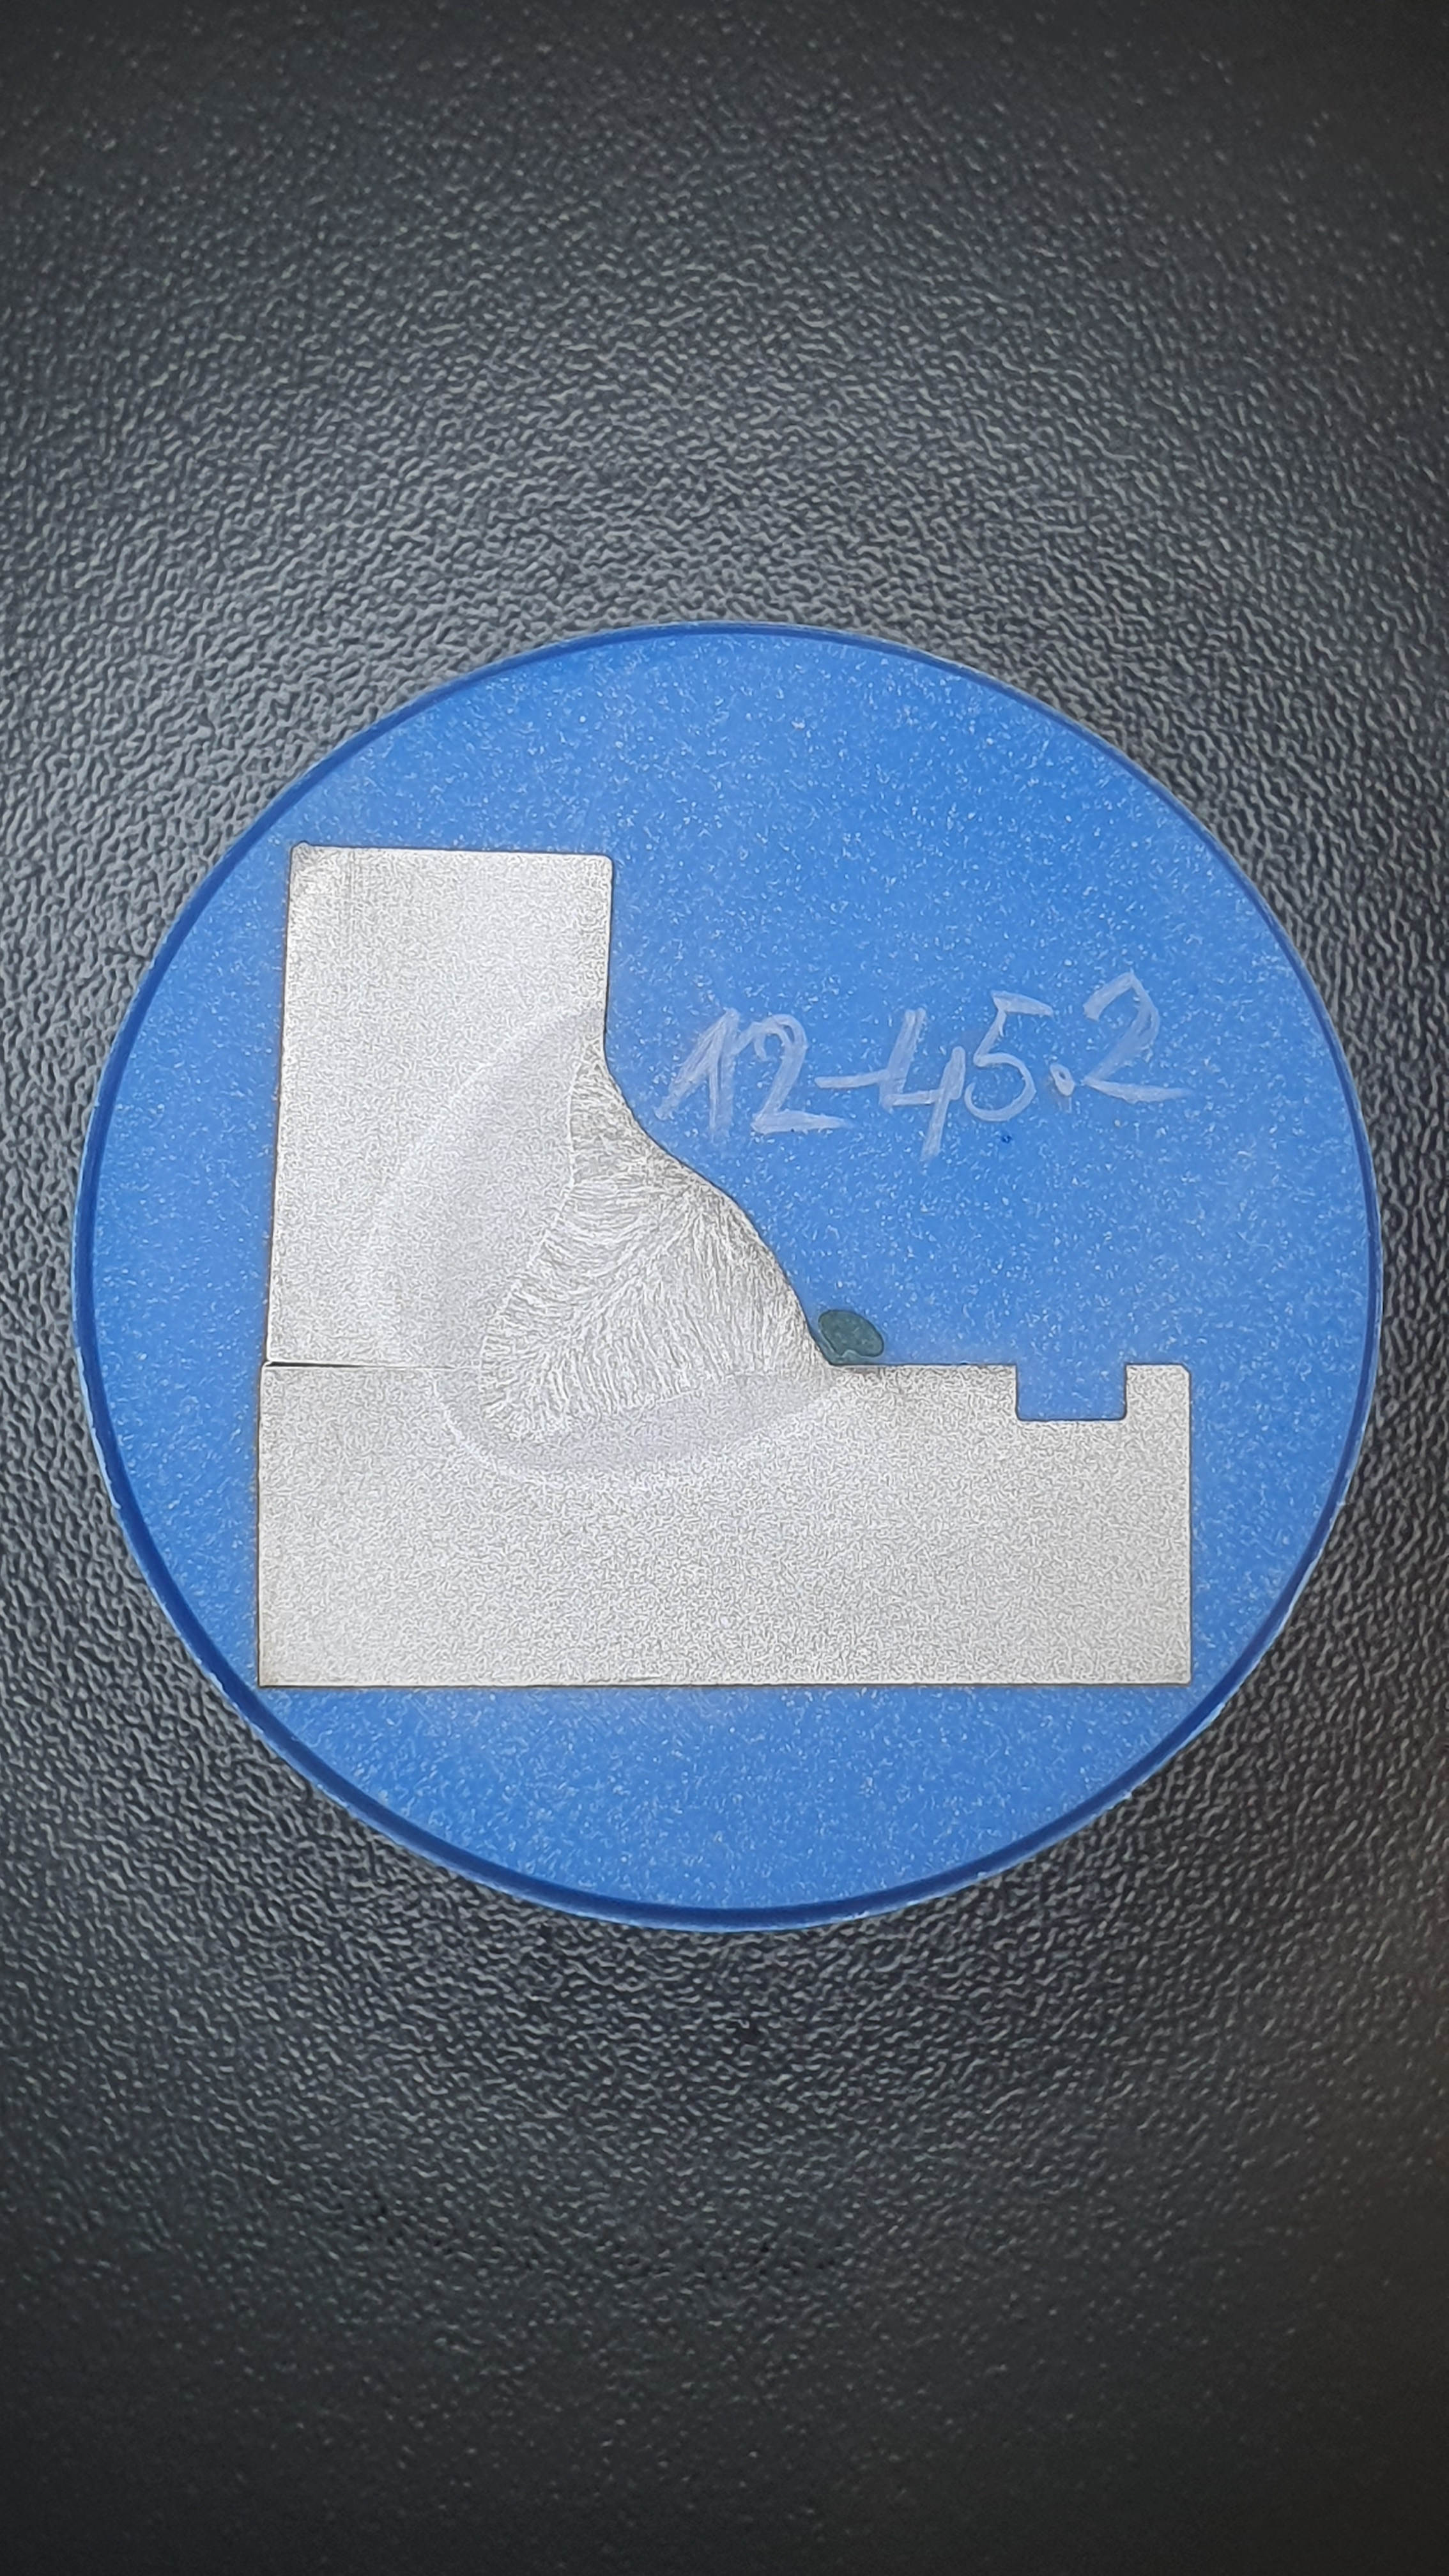Fusion: (478, 1030, 824, 1438)
Hintergrund: (94, 635, 1371, 1911)
Metall: (257, 840, 1192, 1688)
Nebenbereich: (368, 994, 847, 1488)
